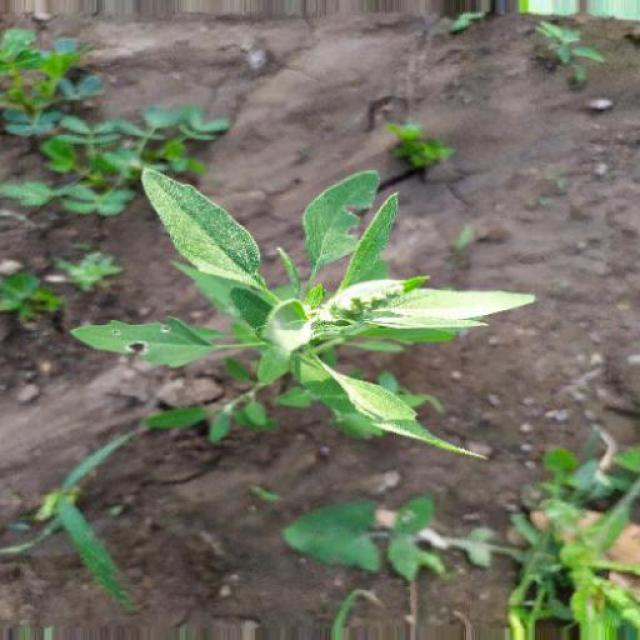weed: (80, 161, 555, 480)
